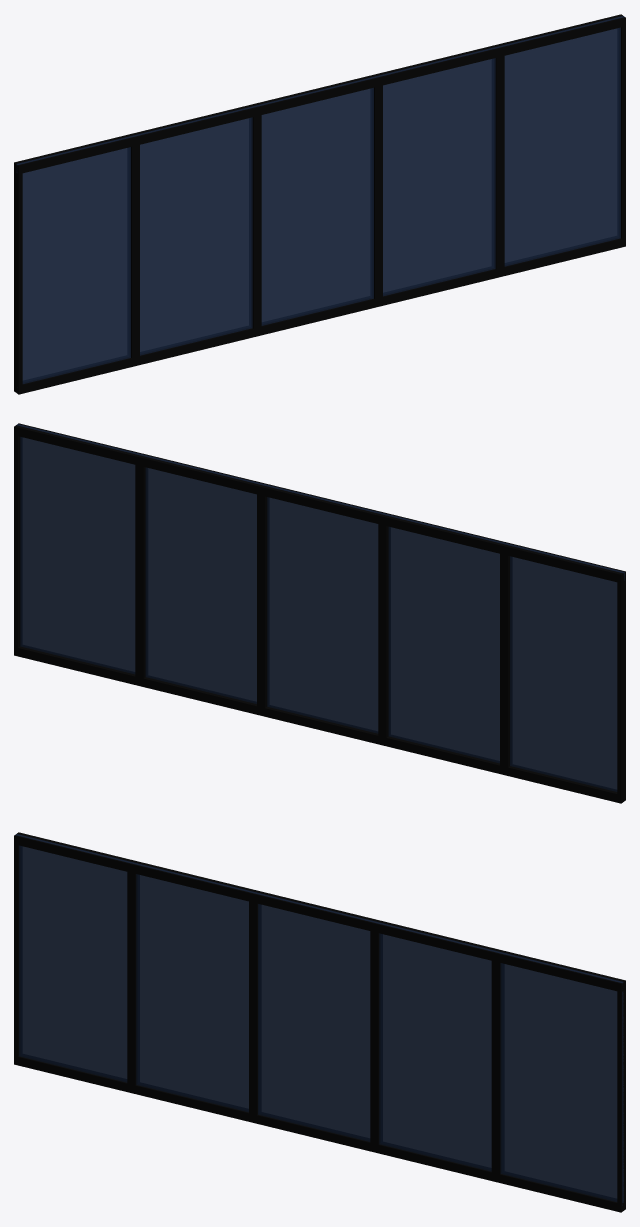
Rendered from ventanal.DAE.
3 views of the same model, one above another, from view 1: azimuth 30°, elevation 25°; view 2: azimuth 150°, elevation 25°; view 3: azimuth 330°, elevation 25° (orthographic).
Parts seen in each view (by area): view 1: ventanal; view 2: ventanal; view 3: ventanal.
Part boxes in pixels (box(x1,y1,x2,y2)): ventanal: box(14, 14, 625, 394); ventanal: box(14, 423, 625, 803); ventanal: box(14, 832, 625, 1212).
Bounding box in the file's own units: 750 × 270 × 10.04.
